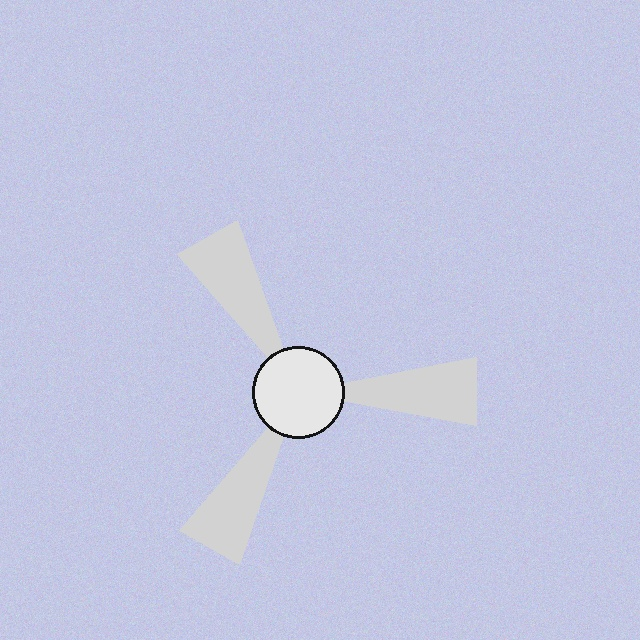fan: (89, 183, 507, 601)
